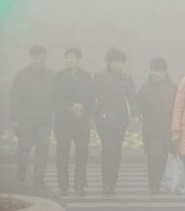person: (91, 46, 140, 196), (9, 44, 55, 191), (52, 45, 94, 196), (138, 54, 182, 197)
